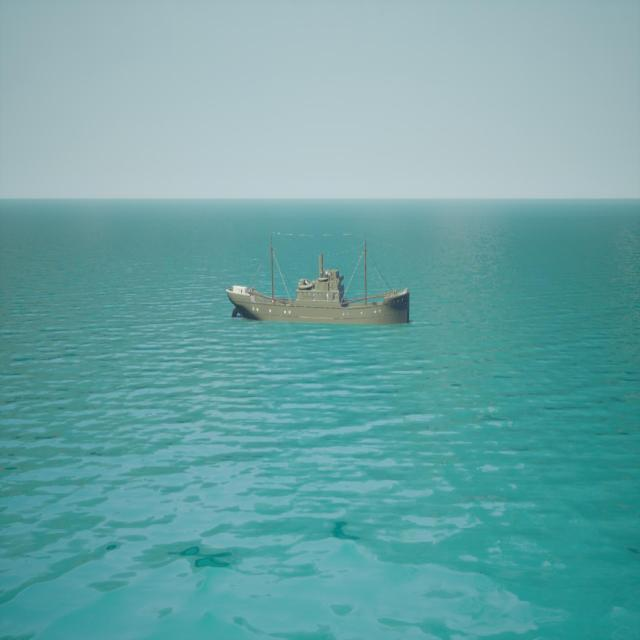fishing ship: (226, 234, 412, 326)
